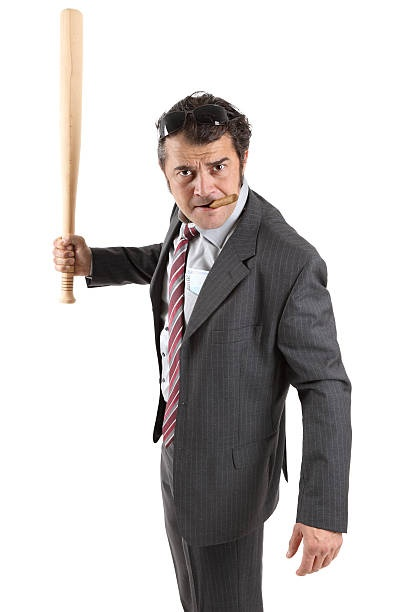bita: (54, 5, 84, 305)
